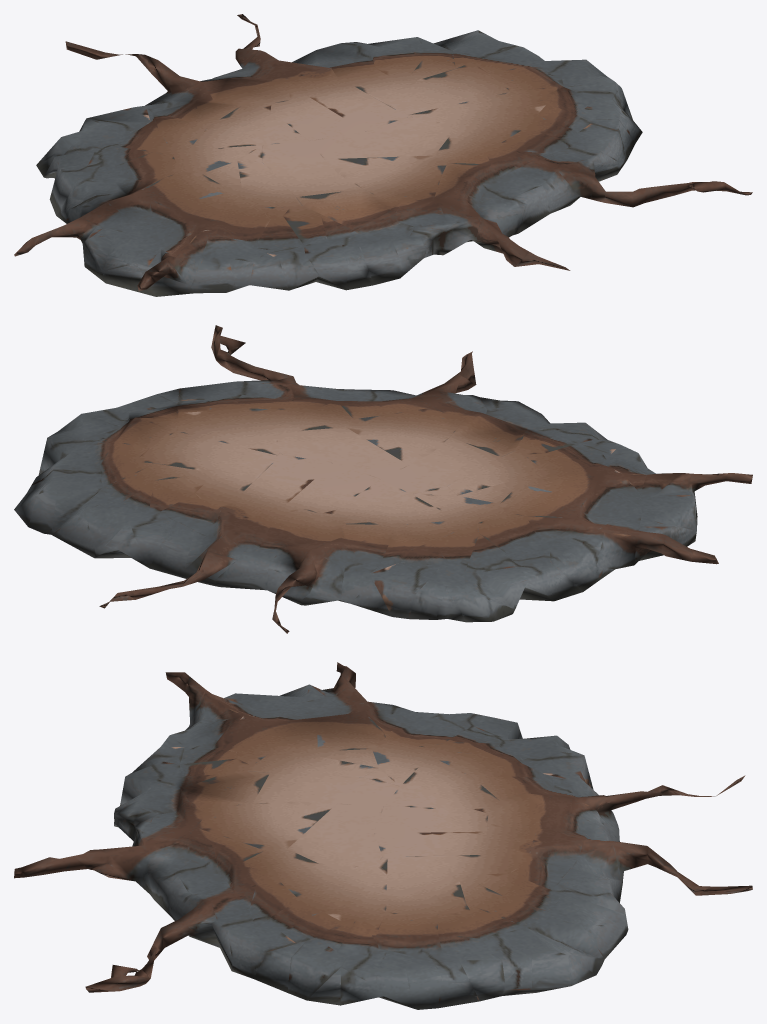
Rendered from blood_pool.glb.
3 views of the same model, one above another, from view 1: azimuth 30°, elevation 25°; view 2: azimuth 150°, elevation 25°; view 3: azimuth 270°, elevation 25° (orthographic). The views are drawn at different scales.
Bounding box in the file's own units: 1.89 × 0.1163 × 1.8.
Materials: 1 (1 with a texture image).
